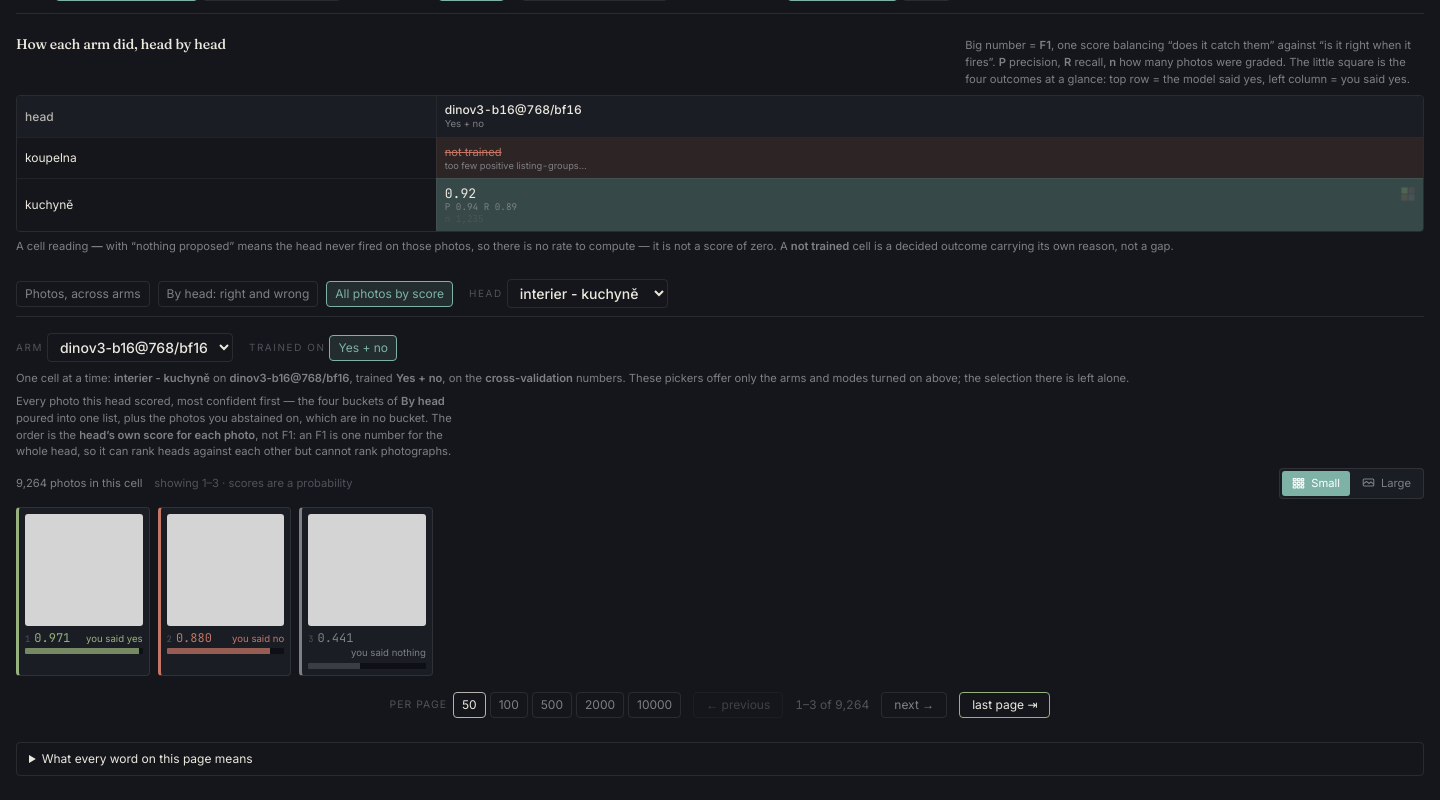
Test: <NewDedupTaggingBakeoff> — view C, all photos by score › shows "x–y of N" and jumps to the last page from the total
The image size is (1440, 800).
(page scrolled)
Check: the list with test id "score-grid" is shown, box 16,507 -> 433,676
Check: the text with test id "score-page-range" reads "1–3 of 9,264", box 795,697 -> 869,713
9,264 photos at 50 a page: the last page starts at 9,250.
Click the button with test id "score-last". click: coordinates (1005, 705)
box: 959,692 -> 1050,718
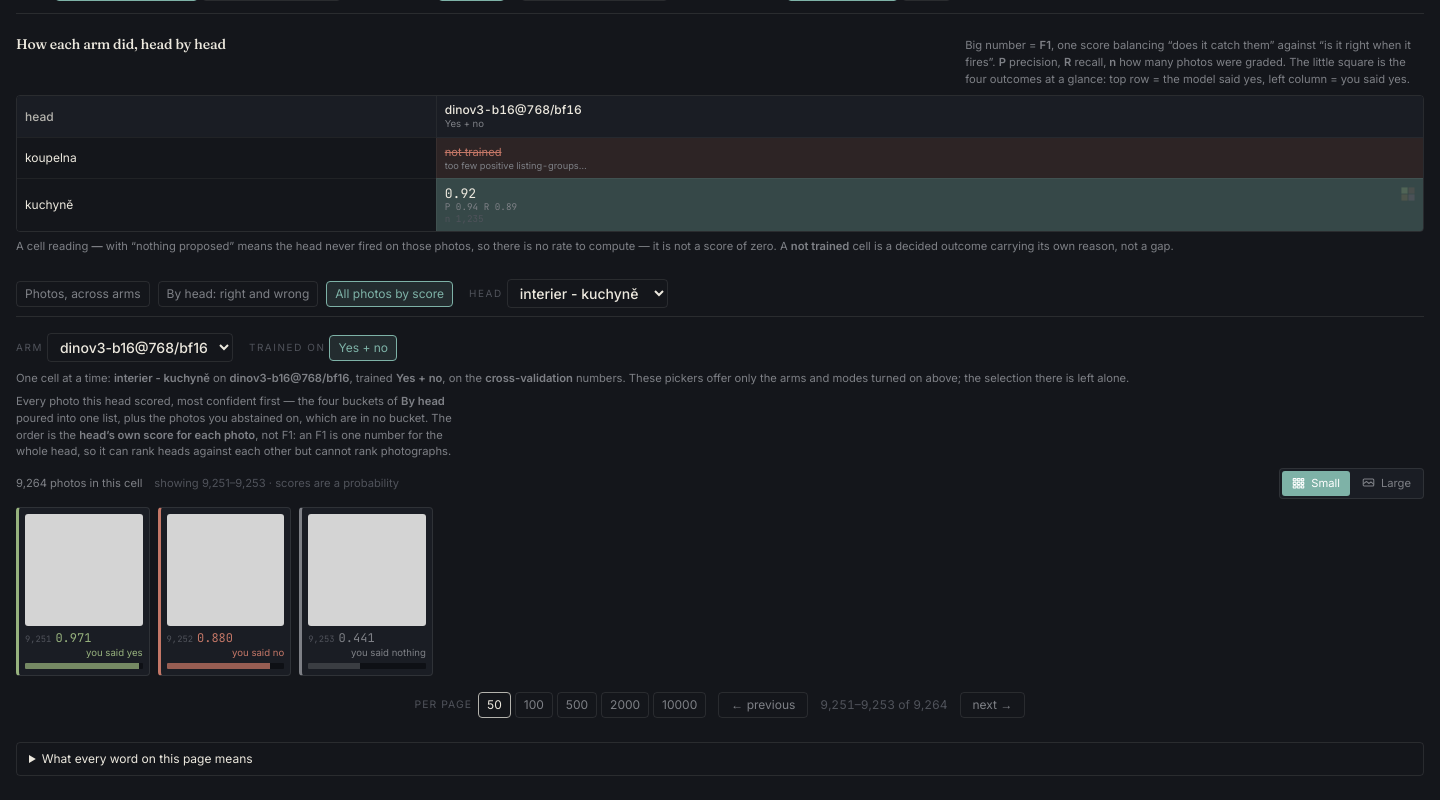
Check: the button with test id "score-last" is gone
